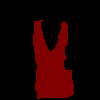canottiera: (32, 19, 74, 98)
